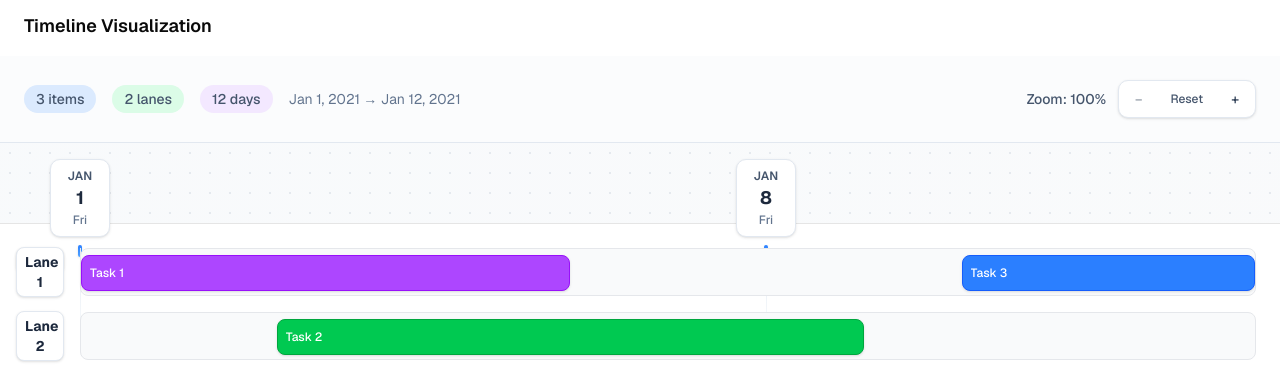
Scenario: Timeline Integration Tests › should only allow editing one item at a time
Click the text "Task 1": x=107, y=273 [90,265,124,281]
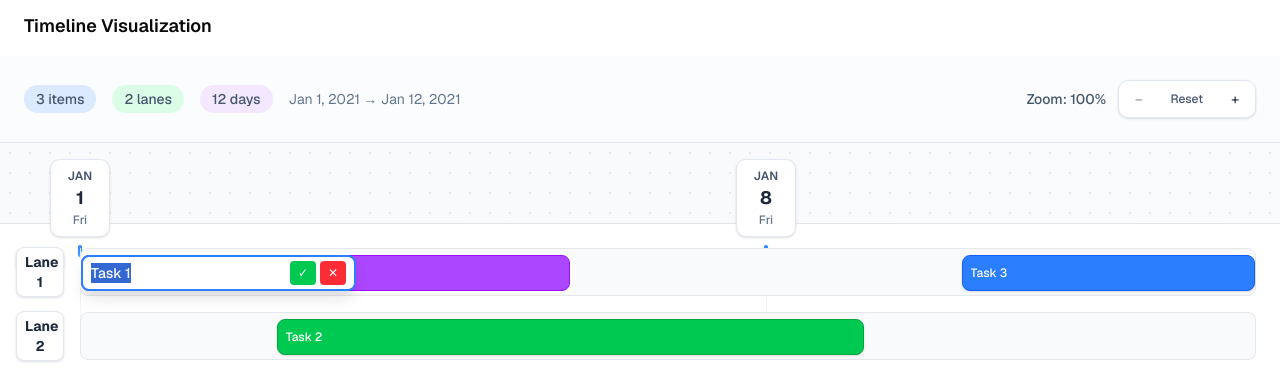
Expected: the field showing "Task 1" is shown, [91,263,282,283]
Click the text "Task 2": x=304, y=337 [286,329,322,345]
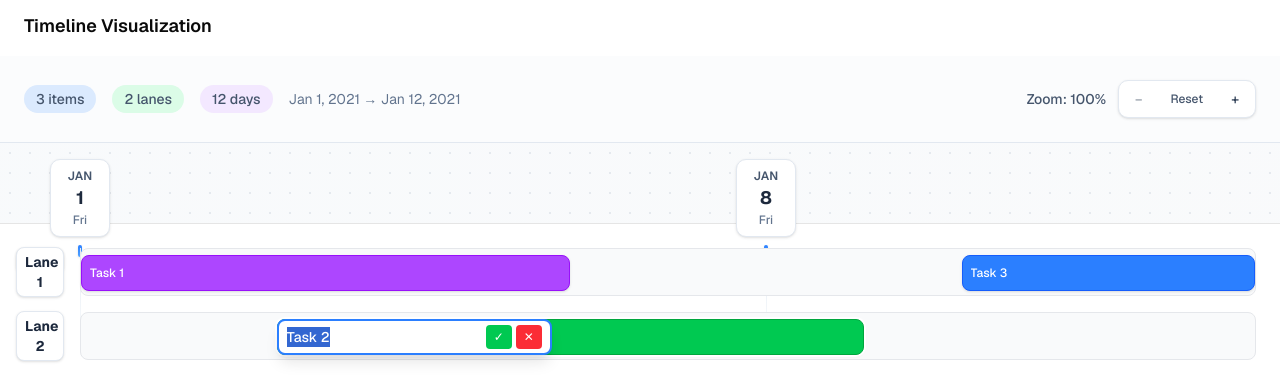
Expected: the field showing "Task 2" is shown, [287,327,478,347]
